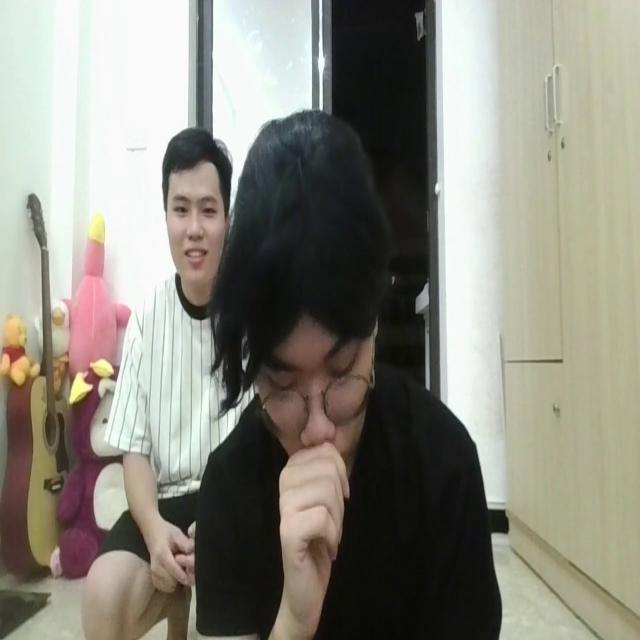extra_person: (115, 125, 254, 502)
student: (193, 119, 498, 640)
